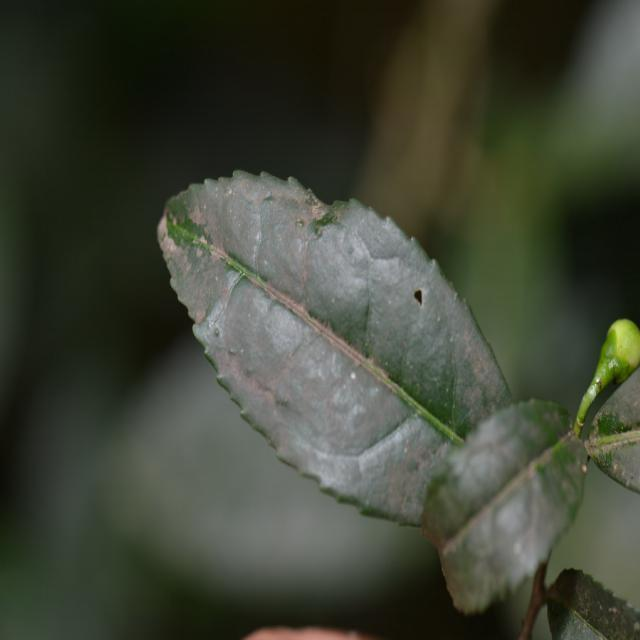Tea algae leaf spot: (172, 181, 428, 513)
